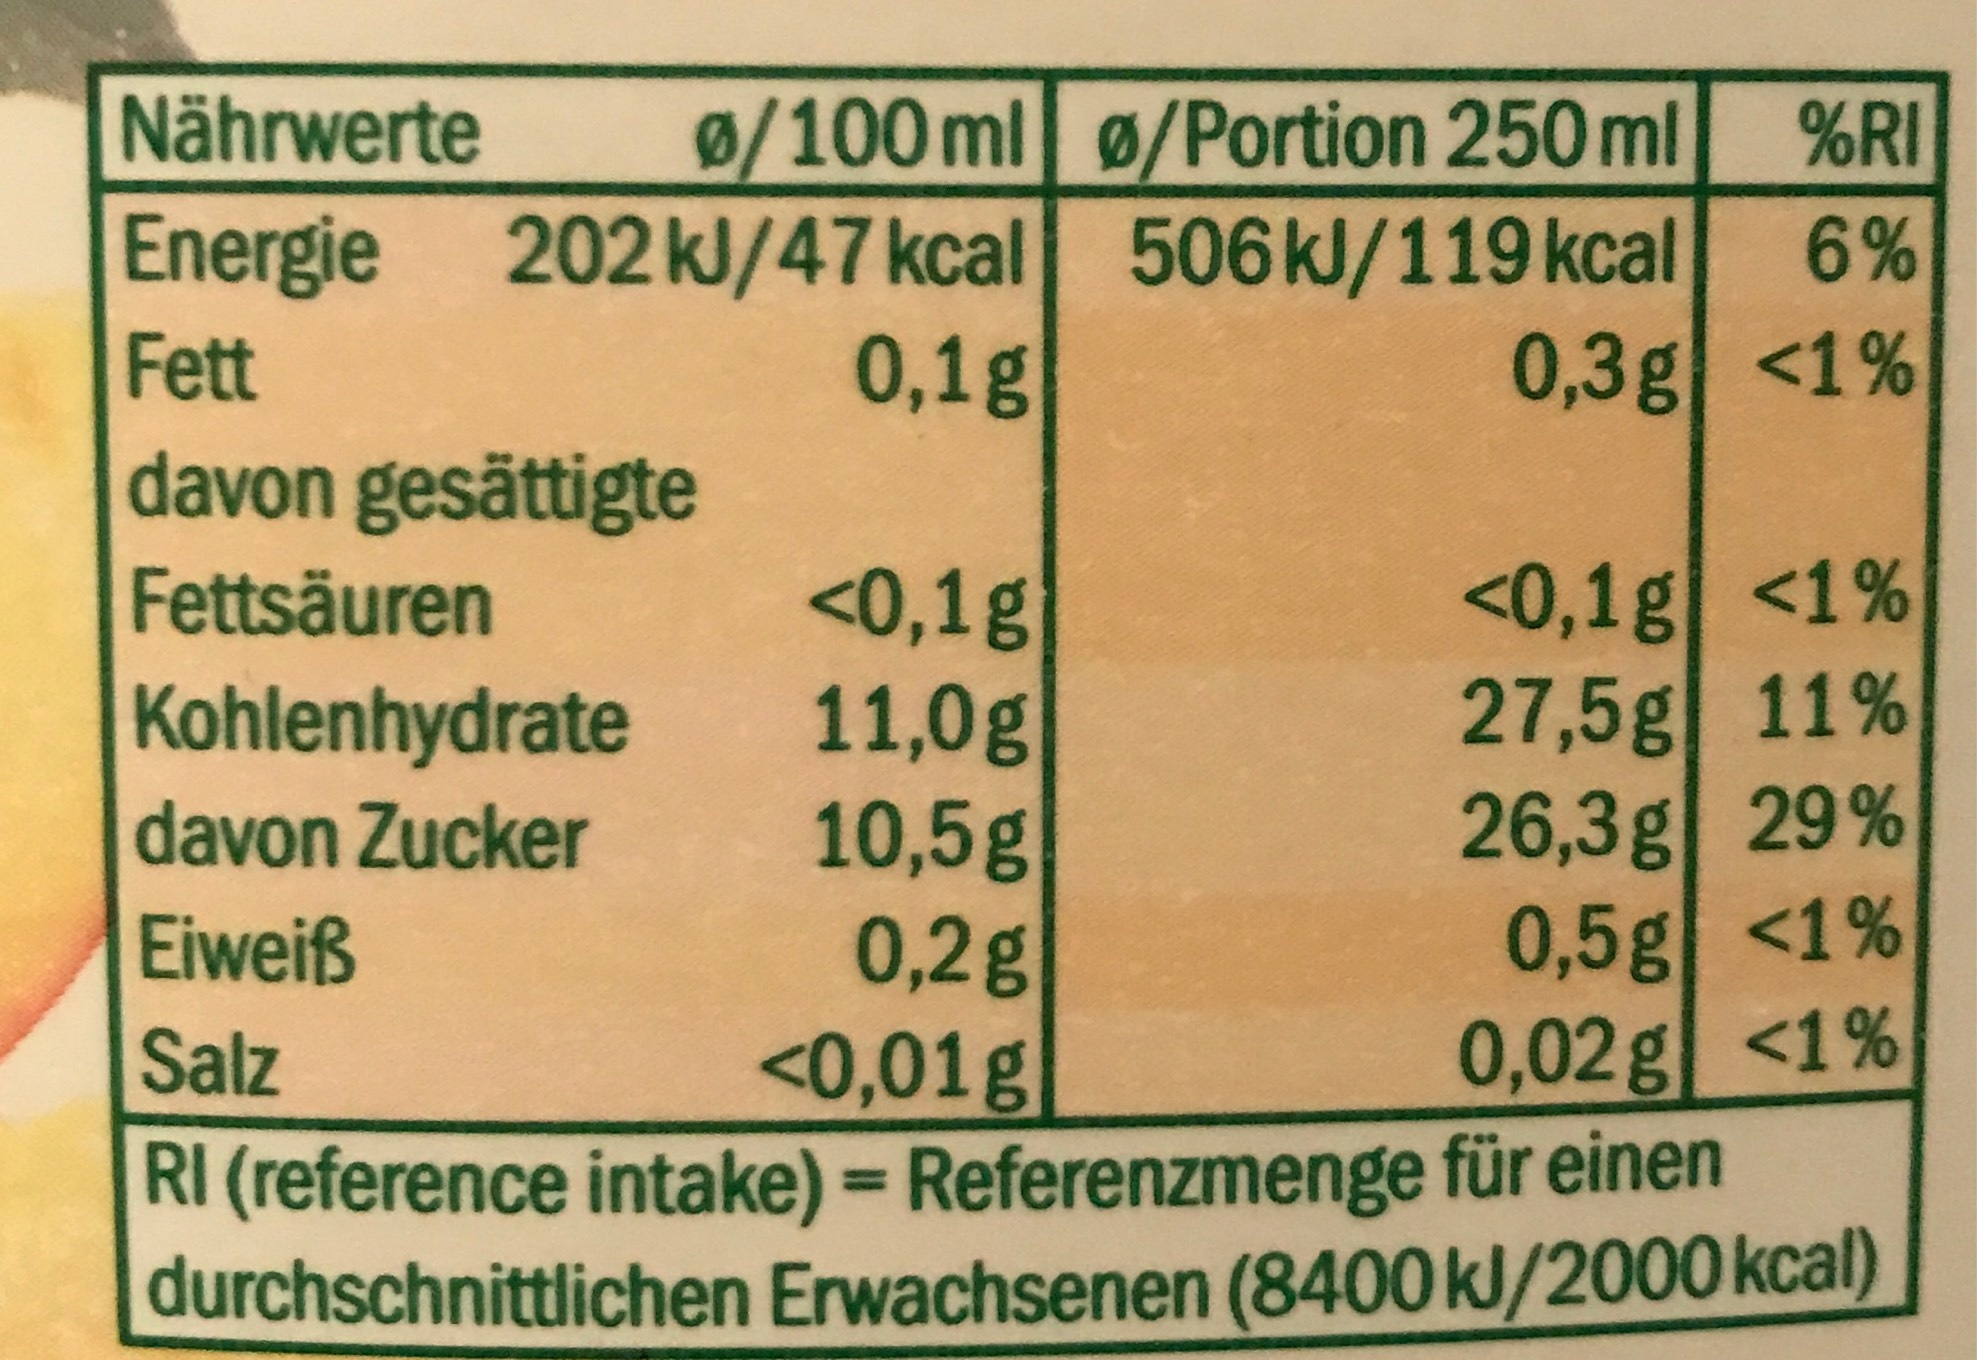column: (110, 80, 1031, 1120), (1089, 86, 1687, 1100), (1731, 89, 1927, 1086)
table: (92, 53, 1944, 1135)
